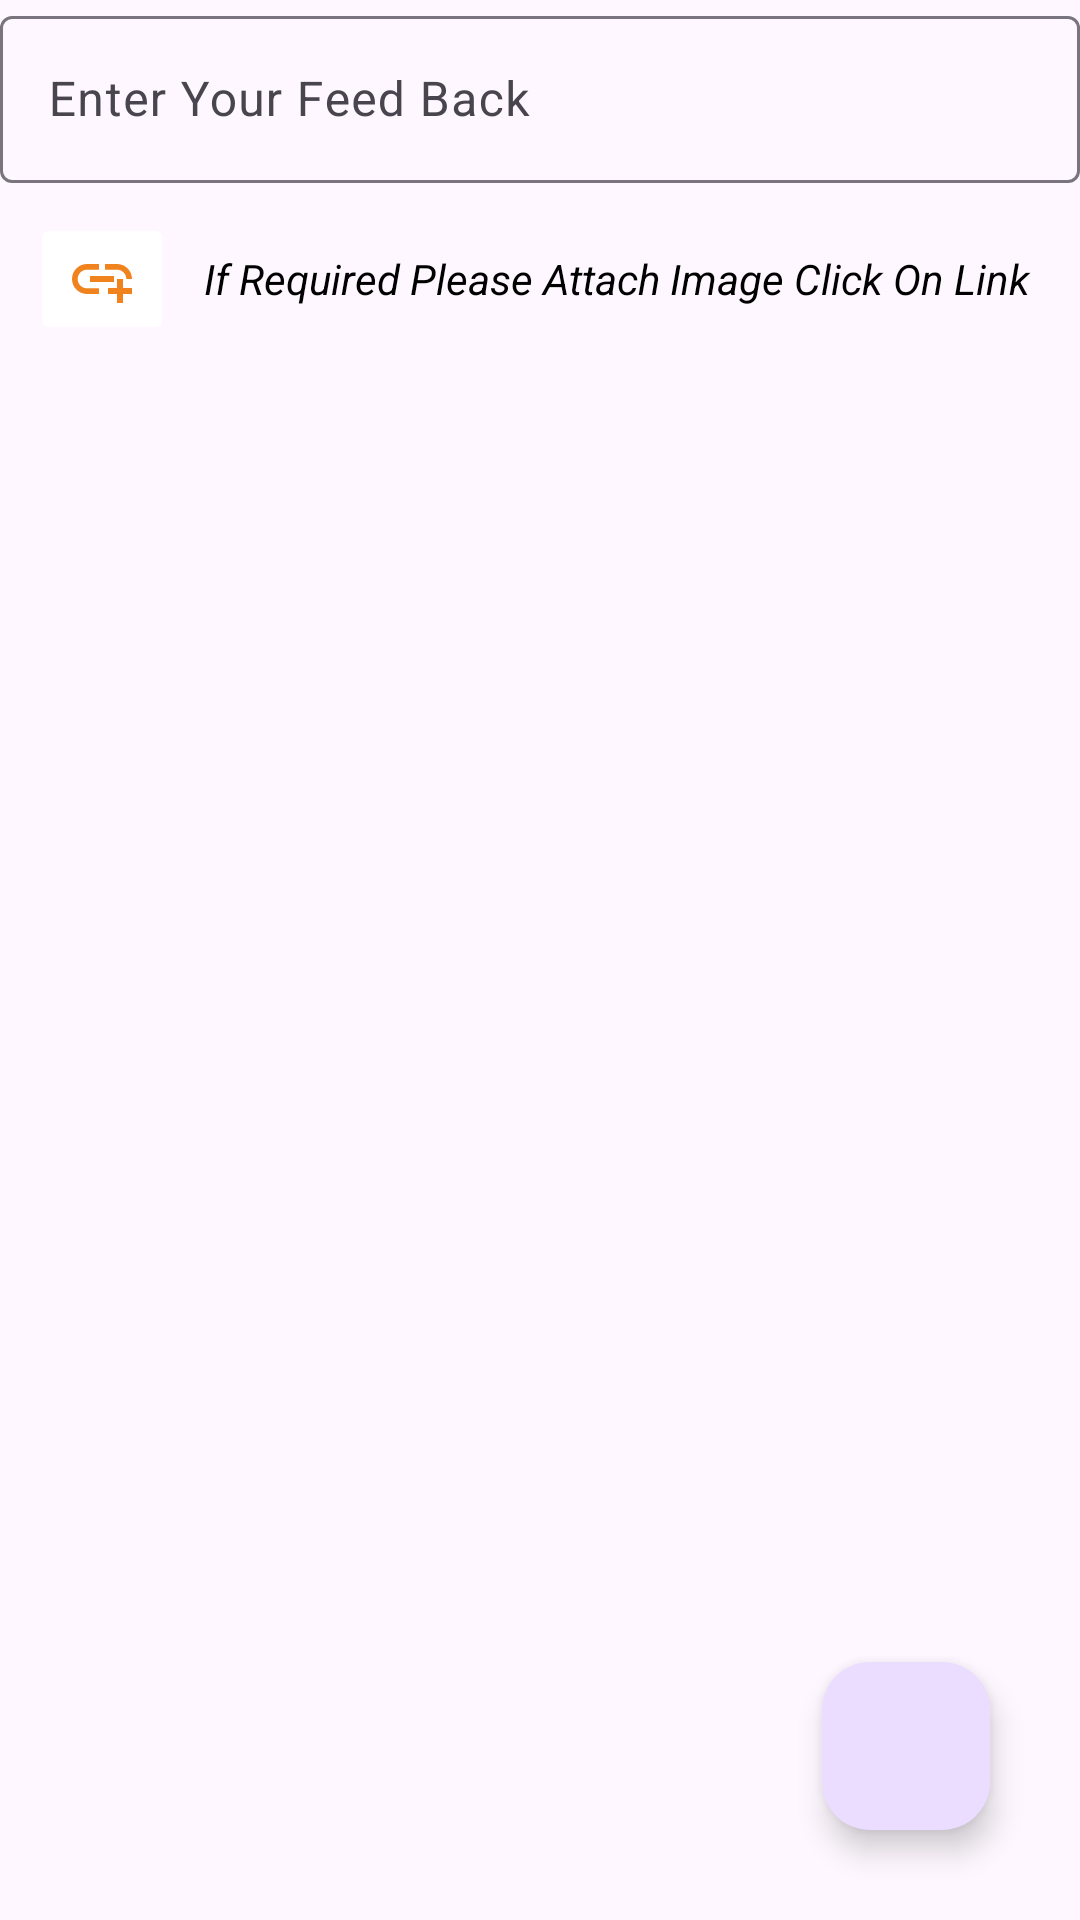

Icon bounding boxes for this 1080 x 1920 phone screenshot, format (x1, y1, x2, y2):
add link: (72, 264, 132, 303)
